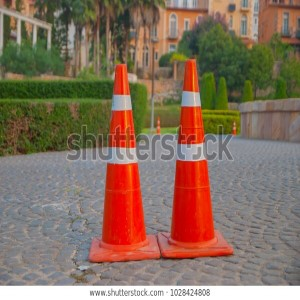traffic cone: (156, 59, 233, 257), (88, 63, 160, 262)
